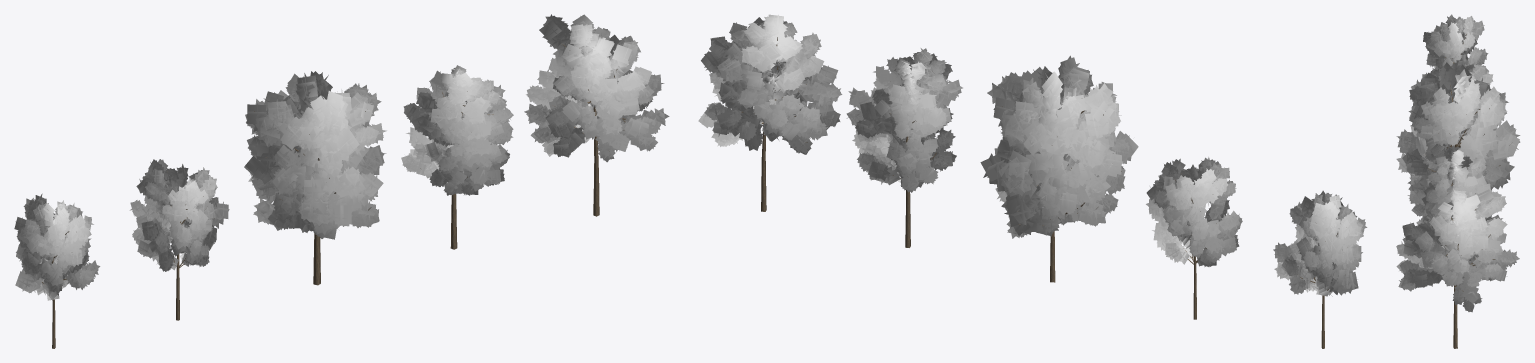
File: Small_Thin_Trees_1A1.fbx
3 renders of one model, left to right at view 1: azimuth 30°, elevation 25°; view 2: azimuth 150°, elevation 25°; view 3: azimuth 270°, elevation 25°, orthographic. The views are drawn at different scales.
Visible parts, largest first — view 1: leaf.1078, leaf.1038, leaf.1060, leaf.1066, leaf.1067, leaf.1088, leaf.1087, leaf.1085, leaf.1086, leaf.1084, leaf.1093, leaf.1089; view 2: leaf.1078, leaf.1038, leaf.1060, leaf.1067, leaf.1066, leaf.1088, leaf.1085, leaf.1086, leaf.1084, leaf.1093, leaf.1089, leaf.1087; view 3: leaf.1038, leaf.1078, leaf.1060, leaf.1066, leaf.1085, leaf.1084, leaf.1067, leaf.1089, Small_Thin_Tree_1A5, leaf.1093, leaf.1087, leaf.1088.
Boxes of the visible parts, bbox=[...] form: leaf.1078: bbox=[244, 71, 386, 238]; leaf.1038: bbox=[524, 14, 669, 161]; leaf.1060: bbox=[401, 65, 513, 195]; leaf.1066: bbox=[14, 193, 100, 300]; leaf.1067: bbox=[130, 159, 228, 271]; leaf.1088: bbox=[246, 71, 384, 239]; leaf.1087: bbox=[129, 164, 229, 271]; leaf.1085: bbox=[404, 66, 513, 194]; leaf.1086: bbox=[15, 195, 98, 295]; leaf.1084: bbox=[528, 16, 665, 161]; leaf.1093: bbox=[249, 84, 379, 224]; leaf.1089: bbox=[528, 20, 657, 158]; leaf.1078: bbox=[980, 55, 1138, 238]; leaf.1038: bbox=[698, 14, 842, 154]; leaf.1060: bbox=[846, 48, 961, 192]; leaf.1067: bbox=[1146, 157, 1242, 266]; leaf.1066: bbox=[1274, 190, 1367, 296]; leaf.1088: bbox=[982, 66, 1134, 237]; leaf.1085: bbox=[848, 51, 962, 192]; leaf.1086: bbox=[1273, 195, 1362, 296]; leaf.1084: bbox=[704, 21, 840, 149]; leaf.1093: bbox=[997, 67, 1120, 227]; leaf.1089: bbox=[705, 18, 833, 149]; leaf.1087: bbox=[1152, 160, 1238, 259]; leaf.1038: bbox=[1396, 187, 1519, 312]; leaf.1078: bbox=[1396, 62, 1520, 191]; leaf.1060: bbox=[1407, 145, 1499, 225]; leaf.1066: bbox=[1422, 14, 1488, 77]; leaf.1085: bbox=[1406, 144, 1502, 224]; leaf.1084: bbox=[1399, 190, 1507, 311]; leaf.1067: bbox=[1424, 57, 1493, 86]; leaf.1089: bbox=[1399, 190, 1506, 306]; Small_Thin_Tree_1A5: bbox=[1445, 209, 1495, 348]; leaf.1093: bbox=[1396, 65, 1508, 170]; leaf.1087: bbox=[1422, 65, 1492, 83]; leaf.1088: bbox=[1398, 66, 1518, 164].
Size of the model in its own units: 3633 by 1159 by 773.
